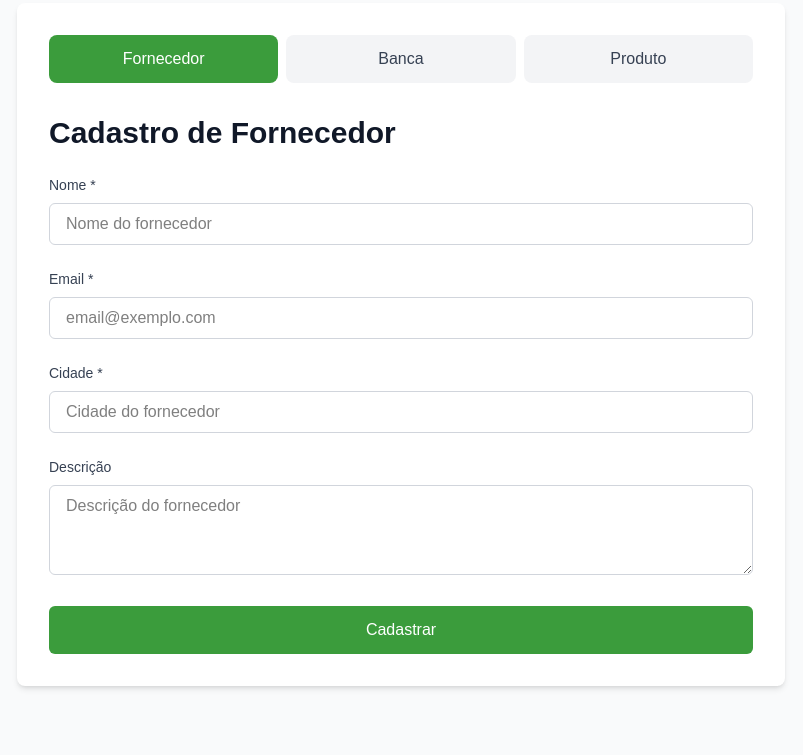
FormCadastro - Testes Completos › Alternância de Abas › deve alternar para aba Produto ao clicar
Click the button "Produto" at (638, 59), box [524,35,753,83]
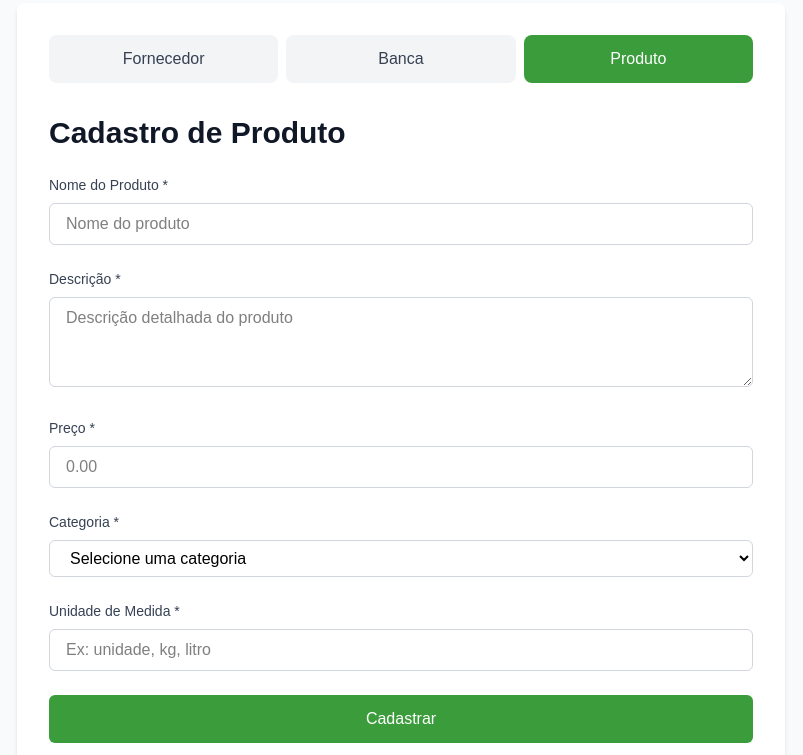
Check: the field labelled "Nome do Produto *" is shown, box [49,203,753,245]
